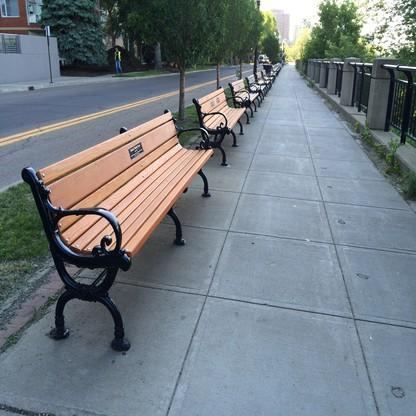obstacle: (14, 79, 223, 355), (229, 72, 256, 109)
